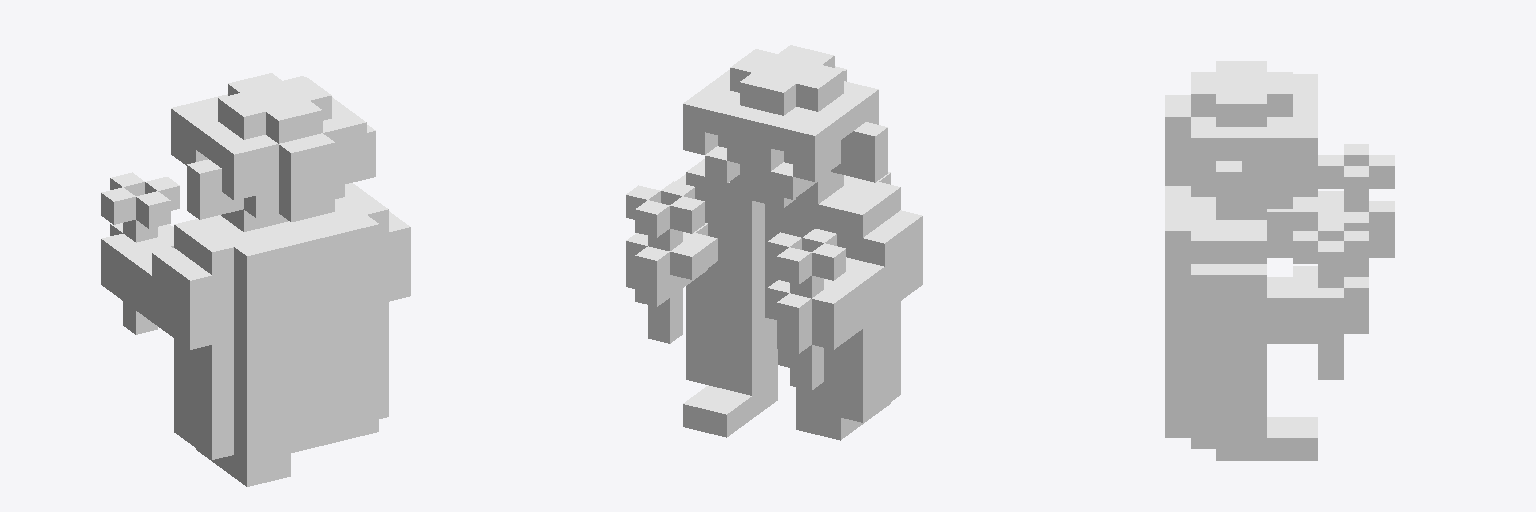
The model's file is scientist01-01.obj.
3 views of the same model, side by side, from view 1: azimuth 30°, elevation 25°; view 2: azimuth 150°, elevation 25°; view 3: azimuth 270°, elevation 25° (orthographic).
Size of the model in its own units: 10 by 15 by 9.